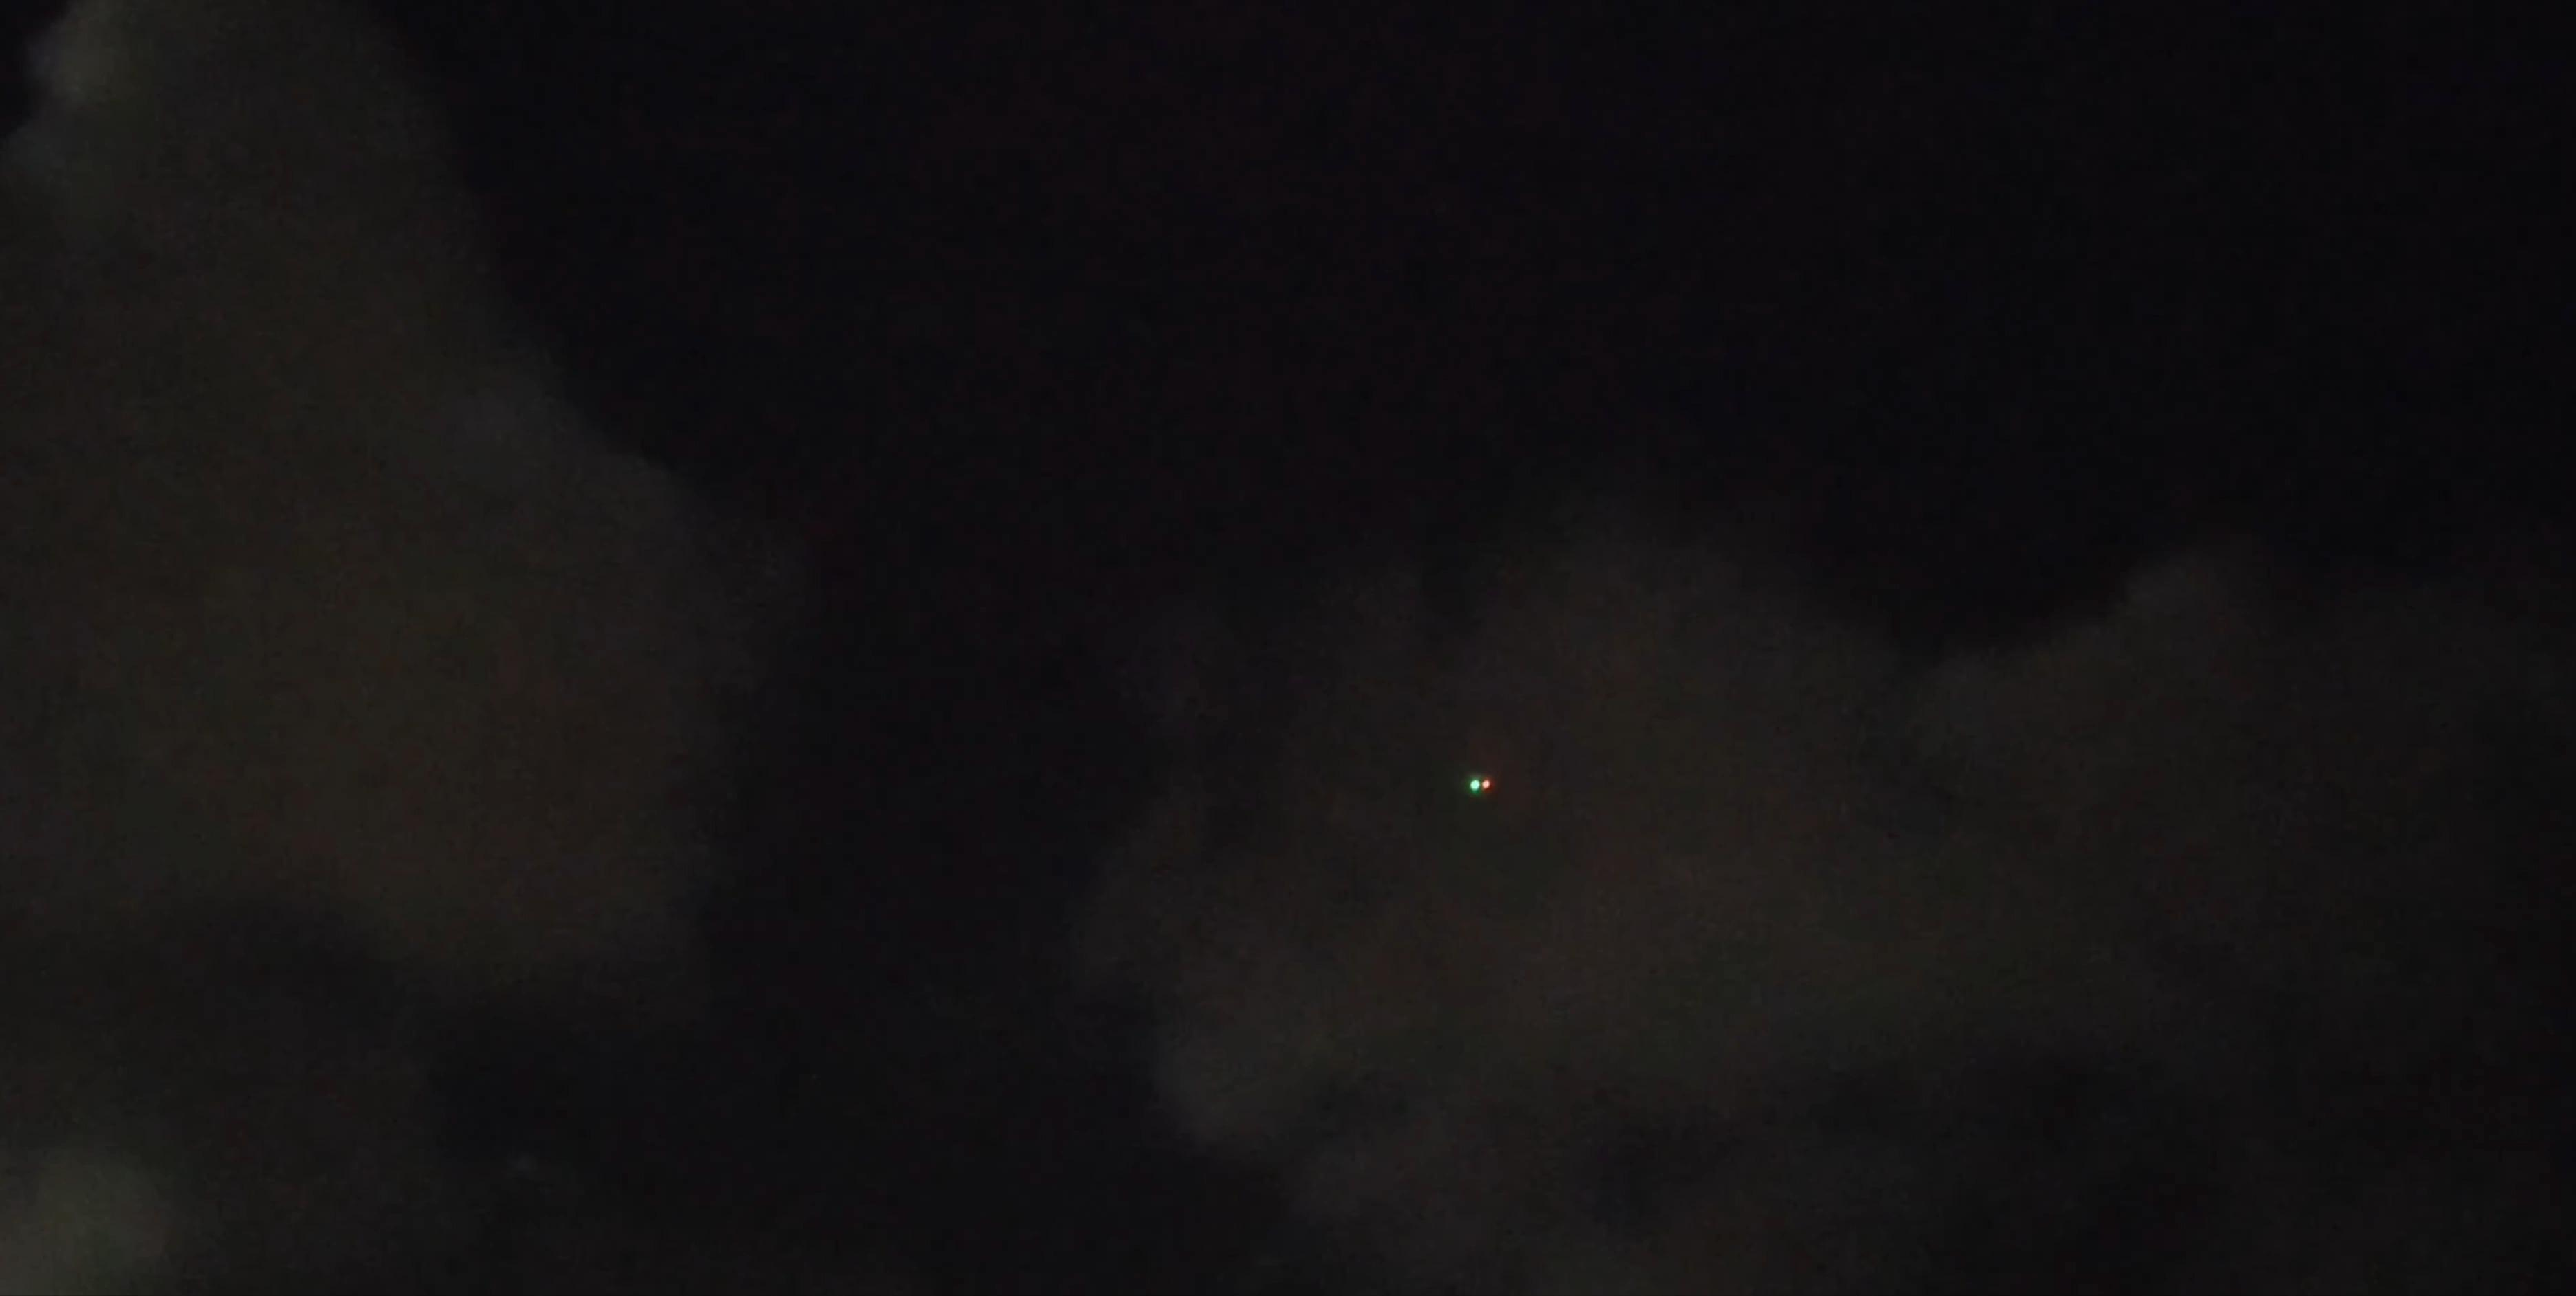Plane: (1452, 765, 1509, 803)
